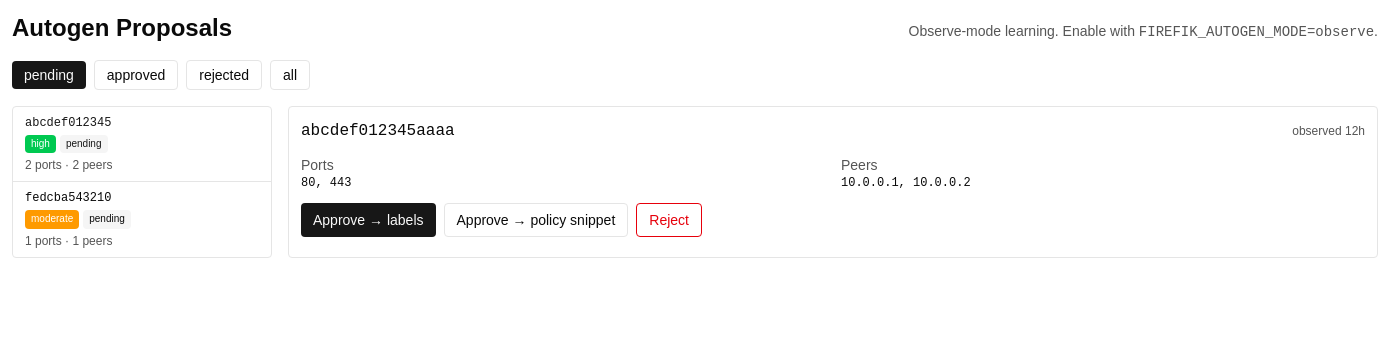
ProposalsPage › approves the active proposal as labels and renders the snippet panel
Expected: the text "abcdef012345" is shown, [25, 116, 111, 130]
Click the button "Approve → labels". click: [368, 220]
box: [301, 203, 436, 237]
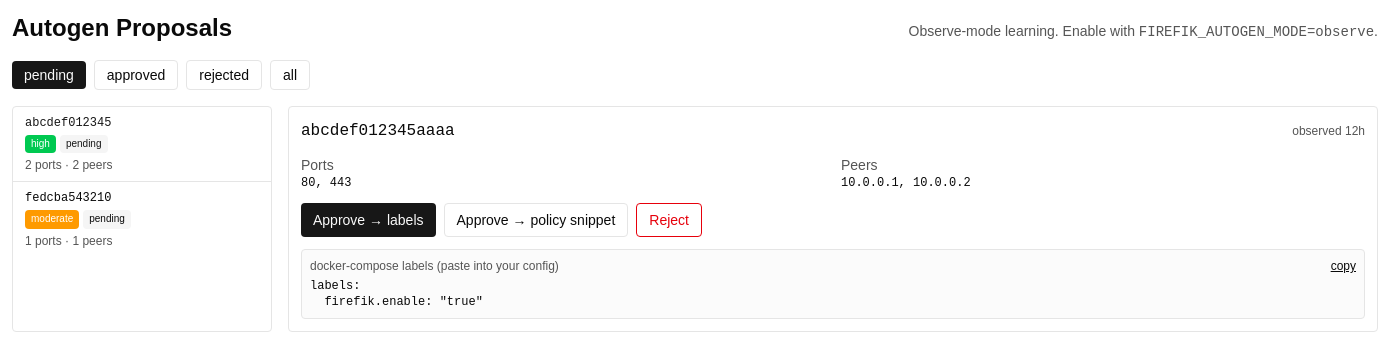
Now the text "docker-compose labels (paste into your config)" is shown, box [310, 258, 559, 274]
